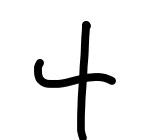plus: (34, 21, 116, 140)
